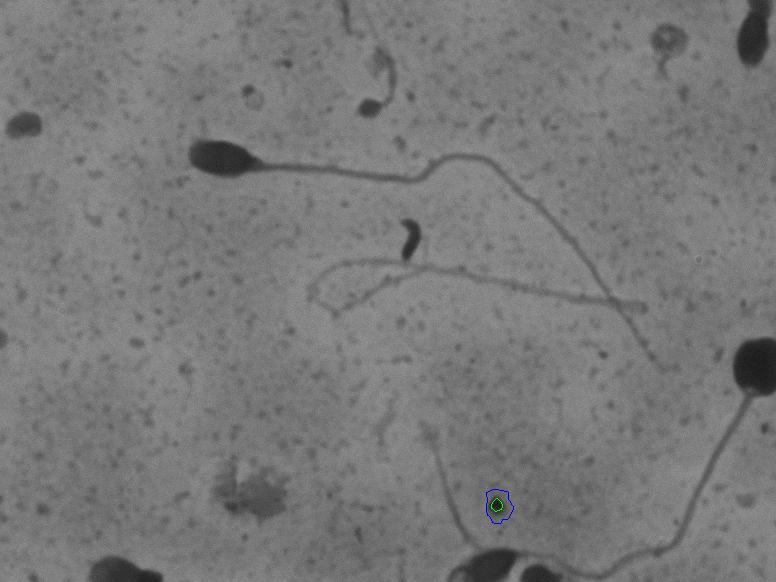Abnormal: (146, 87, 558, 263)
